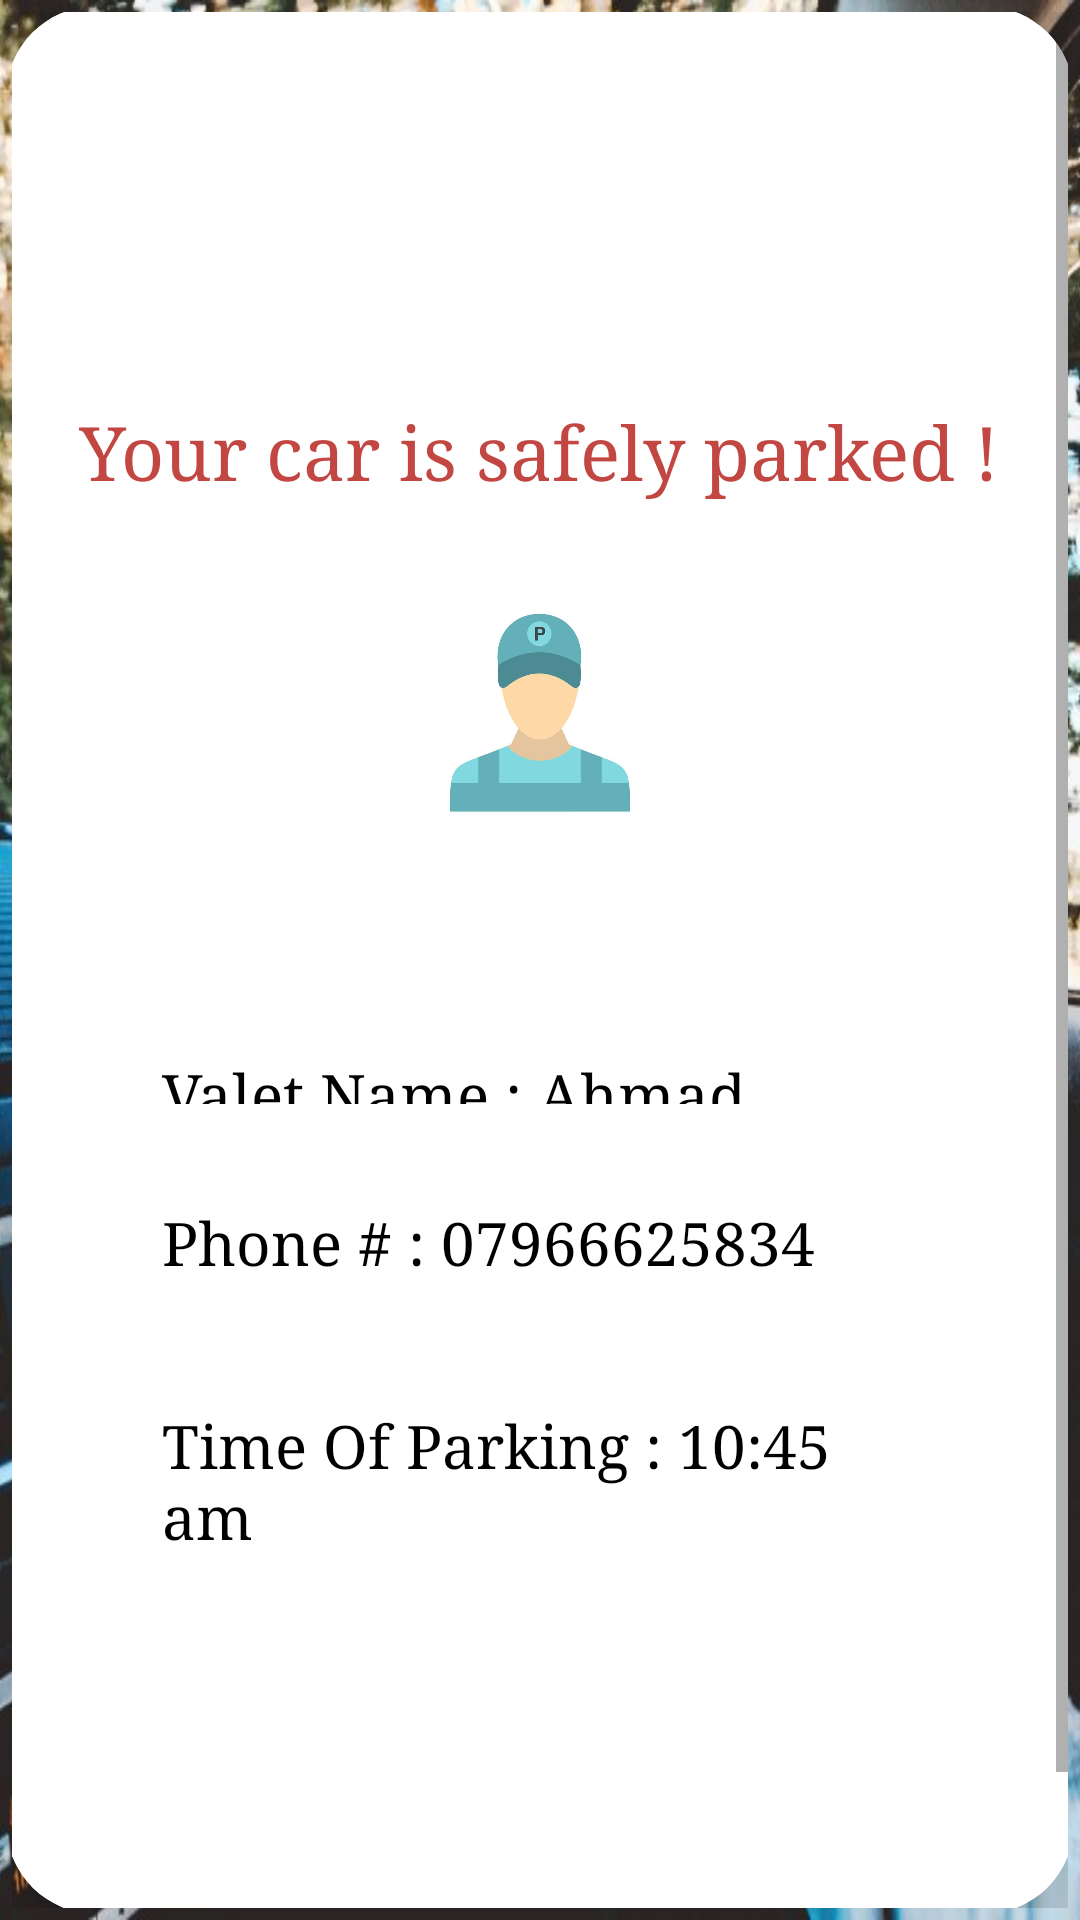

Icons on this 1080*1920 Android screen, each with the point to tap as (x,y):
valet man: (540,713)
